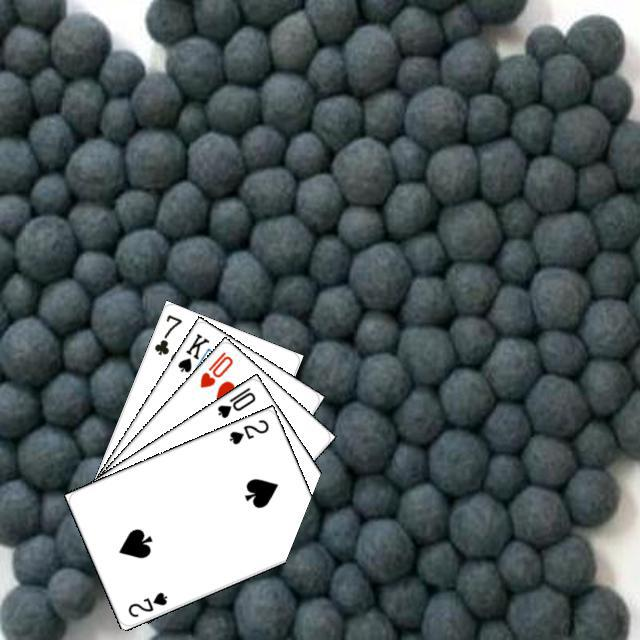10h: (195, 347, 235, 390)
10s: (212, 382, 257, 420)
2s: (224, 414, 271, 446), (123, 587, 169, 619)
7c: (149, 309, 184, 357)
Ks: (173, 328, 211, 374)
